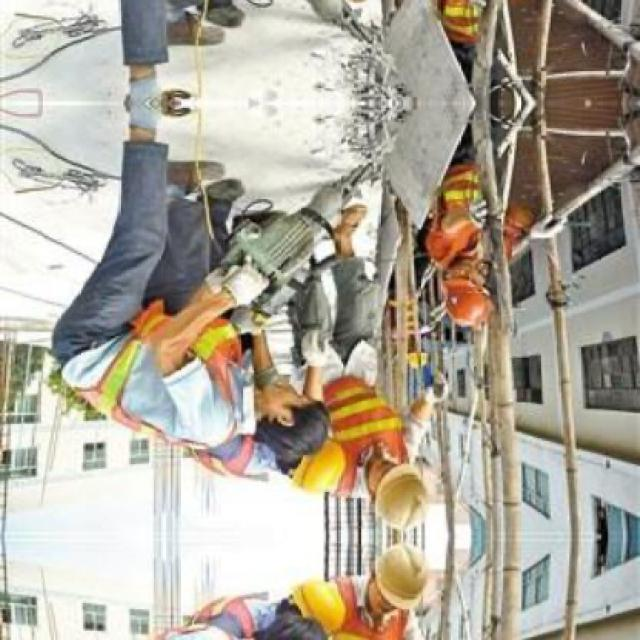con casco: (353, 460, 440, 538), (375, 544, 441, 616), (283, 582, 362, 640), (445, 277, 495, 328)
sin casco: (257, 389, 327, 463)
